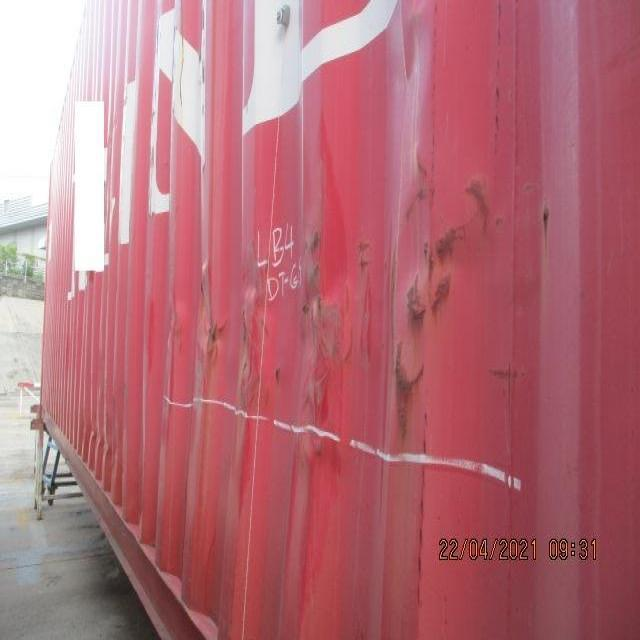Dent: (142, 30, 519, 402)
Minor-Dent: (81, 411, 126, 479)
